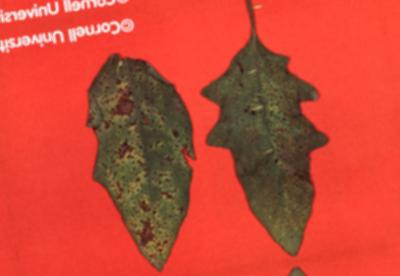Tomato Septoria leaf spot: (187, 13, 348, 269), (67, 40, 217, 276)
